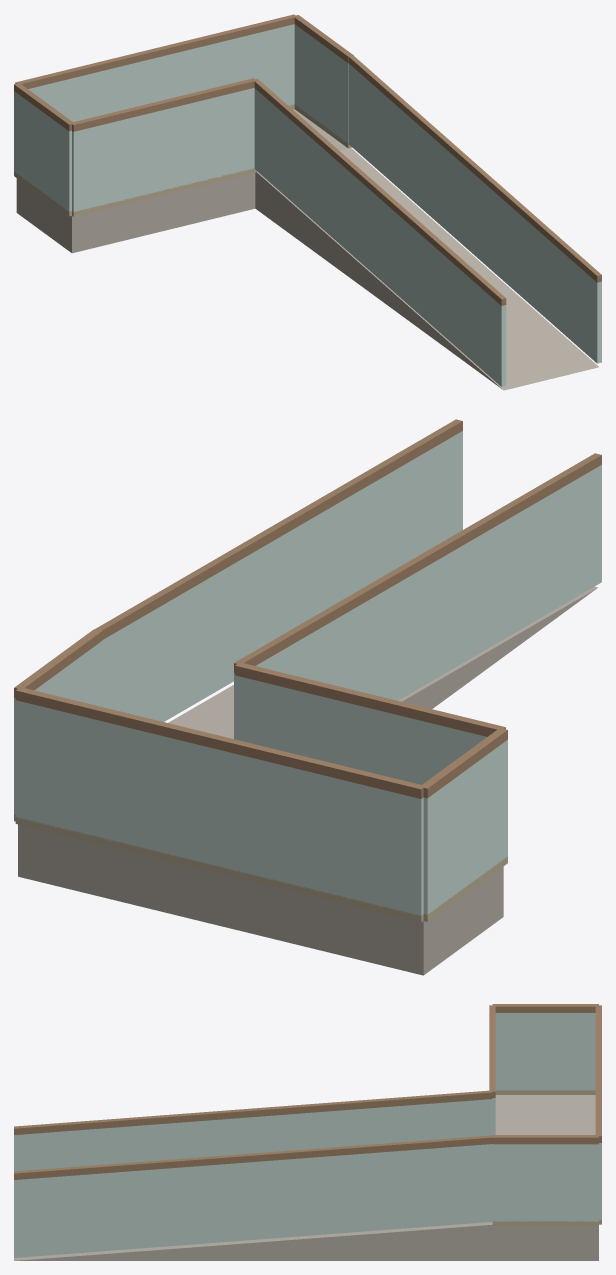
The model's file is CONVERSATION_787_r001.glb.
3 views of the same model, one above another, from view 1: azimuth 30°, elevation 25°; view 2: azimuth 150°, elevation 25°; view 3: azimuth 270°, elevation 25° (orthographic). The views are drawn at different scales.
Visible parts, largest first — view 1: G2R_787_RearClosed_Infill, G2R_787_ContinuousRearRamp, G2R_787_Fore_Infill, G2R_787_ConversationOverlook, G2R_787_Outer_Infill, G2R_787_Inner_Infill, G2R_787_Fore_Handrail, G2R_787_Ramp_L_guard_11, G2R_787_Ramp_R_guard_11, G2R_787_RearClosed_Handrail, G2R_787_Ramp_L_guard_3, G2R_787_Ramp_L_guard_10 (+23 smaller); view 2: G2R_787_Fore_Infill, G2R_787_ConversationOverlook, G2R_787_RearClosed_Infill, G2R_787_Outer_Infill, G2R_787_Fore_Handrail, G2R_787_ContinuousRearRamp, G2R_787_RearClosed_Handrail, G2R_787_Ramp_R_guard_6, G2R_787_Ramp_R_guard_8, G2R_787_Ramp_L_guard_3, G2R_787_Ramp_R_guard_7, G2R_787_Ramp_R_guard_9 (+22 smaller); view 3: G2R_787_ContinuousRearRamp, G2R_787_Inner_Infill, G2R_787_Outer_Infill, G2R_787_ConversationOverlook, G2R_787_Ramp_L_guard_7, G2R_787_Ramp_L_guard_0, G2R_787_Ramp_L_guard_6, G2R_787_Ramp_L_guard_1, G2R_787_Ramp_L_guard_8, G2R_787_Ramp_L_guard_9, G2R_787_Ramp_L_guard_3, G2R_787_Ramp_L_guard_4 (+46 smaller).
Boxes of the visible parts, <box> form: G2R_787_RearClosed_Infill: <box>72,88,254,212</box>; G2R_787_ContinuousRearRamp: <box>255,148,598,390</box>; G2R_787_Fore_Infill: <box>28,24,294,121</box>; G2R_787_ConversationOverlook: <box>16,109,347,253</box>; G2R_787_Outer_Infill: <box>14,91,71,212</box>; G2R_787_Inner_Infill: <box>294,24,348,143</box>; G2R_787_Fore_Handrail: <box>15,14,296,88</box>; G2R_787_Ramp_L_guard_11: <box>576,265,601,363</box>; G2R_787_Ramp_R_guard_11: <box>481,288,506,386</box>; G2R_787_RearClosed_Handrail: <box>71,78,256,131</box>; G2R_787_Ramp_L_guard_3: <box>410,118,431,216</box>; G2R_787_Ramp_L_guard_10: <box>555,246,576,344</box>; G2R_787_Fore_Infill: <box>15,700,423,916</box>; G2R_787_ConversationOverlook: <box>18,824,503,975</box>; G2R_787_RearClosed_Infill: <box>235,675,486,784</box>; G2R_787_Outer_Infill: <box>423,740,507,915</box>; G2R_787_Fore_Handrail: <box>15,688,425,798</box>; G2R_787_ContinuousRearRamp: <box>168,586,598,738</box>; G2R_787_RearClosed_Handrail: <box>235,662,505,736</box>; G2R_787_Ramp_R_guard_6: <box>421,552,451,686</box>; G2R_787_Ramp_R_guard_8: <box>481,517,511,651</box>; G2R_787_Ramp_L_guard_3: <box>192,571,222,705</box>; G2R_787_Ramp_R_guard_7: <box>451,535,481,669</box>; G2R_787_Ramp_R_guard_9: <box>511,500,541,634</box>; G2R_787_ContinuousRearRamp: <box>14,1222,492,1260</box>; G2R_787_Inner_Infill: <box>492,1144,598,1221</box>; G2R_787_Outer_Infill: <box>495,1013,595,1090</box>; G2R_787_ConversationOverlook: <box>492,1095,598,1260</box>; G2R_787_Ramp_L_guard_7: <box>173,1165,213,1245</box>; G2R_787_Ramp_L_guard_0: <box>452,1144,492,1224</box>; G2R_787_Ramp_L_guard_6: <box>213,1162,253,1242</box>; G2R_787_Ramp_L_guard_1: <box>412,1147,452,1227</box>; G2R_787_Ramp_L_guard_8: <box>133,1168,173,1248</box>; G2R_787_Ramp_L_guard_9: <box>93,1171,133,1251</box>; G2R_787_Ramp_L_guard_3: <box>333,1153,372,1233</box>; G2R_787_Ramp_L_guard_4: <box>293,1156,332,1236</box>.
Bounding box in the file's own units: 3.57 × 1.55 × 6.64.
